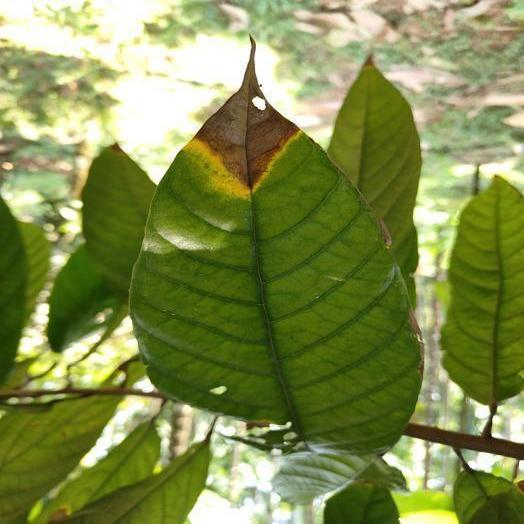Potassium: (130, 50, 421, 452)
